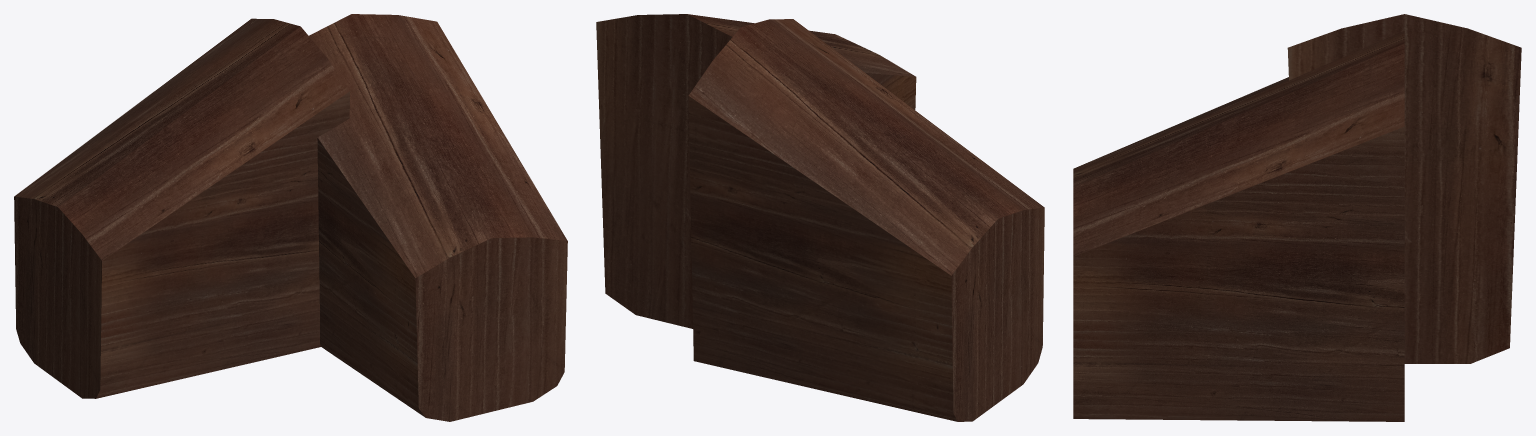
The model's file is SM_R_DancheongCorner_13.fbx.
3 renders of one model, left to right at view 1: azimuth 30°, elevation 25°; view 2: azimuth 150°, elevation 25°; view 3: azimuth 270°, elevation 25°, orthographic. The views are drawn at different scales.
Visible parts, largest first — view 1: SM_R_DancheongCorner_13; view 2: SM_R_DancheongCorner_13; view 3: SM_R_DancheongCorner_13.
Part boxes in pixels (bbox=[...]): SM_R_DancheongCorner_13: bbox=[14, 14, 567, 421]; SM_R_DancheongCorner_13: bbox=[596, 14, 1044, 421]; SM_R_DancheongCorner_13: bbox=[1073, 14, 1521, 421].
Bounding box in the file's own units: 55.53 × 48.08 × 41.4.
Materials: 1 (1 with a texture image).
